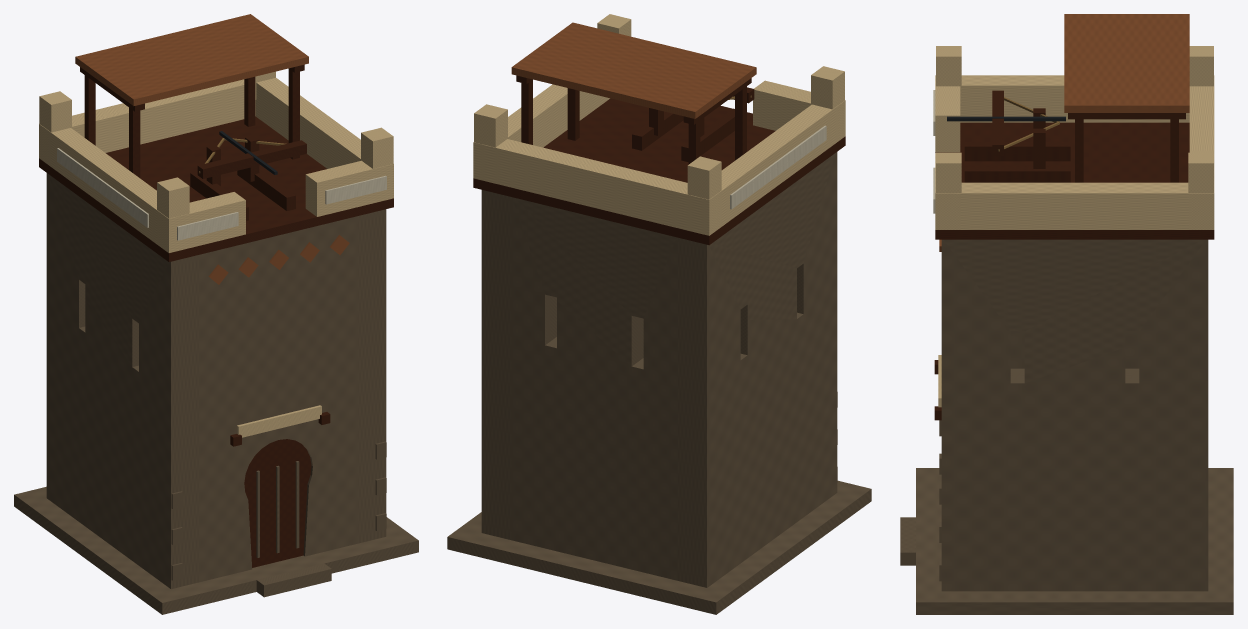
Rendered from Berber_Outpost_Age3_springald_stone.fbx.
The picture shows the model from 3 angles, left to right: view 1: azimuth 30°, elevation 25°; view 2: azimuth 150°, elevation 25°; view 3: azimuth 270°, elevation 25°; orthographic projection. The views are drawn at different scales.
Visible parts, largest first — view 1: fortified_stone_side, fortified_stone_face, lookout_floor, fitted_flat_canopy, tower_foundation, fortified_stone_side.001, lookout_parapet_back, horseshoe_door.001, lookout_parapet_side, lookout_parapet_side.001, lookout_parapet_front.001, lookout_parapet_front (+15 smaller); view 2: fortified_stone_face.001, fortified_stone_side, fitted_flat_canopy, tower_foundation, lookout_parapet_back, lookout_floor, fortified_stone_side.001, lookout_parapet_side, lookout_parapet_side.001, lookout_parapet_front, neutral_owner_side_band, corner_merlon.001 (+7 smaller); view 3: fortified_stone_side.001, tower_foundation, fitted_flat_canopy, lookout_floor, lookout_parapet_side.001, lookout_parapet_side, lookout_parapet_back, springald_stock_runner.001, springald_stock_runner, lookout_parapet_front, fortified_stone_side, corner_merlon (+11 smaller).
Boxes of the visible parts, x1,y1,x2,y2 form: fortified_stone_side: (46, 173, 198, 589); fortified_stone_face: (198, 216, 358, 582); lookout_floor: (39, 116, 393, 261); fitted_flat_canopy: (75, 14, 308, 105); tower_foundation: (14, 486, 418, 614); fortified_stone_side.001: (357, 209, 386, 543); lookout_parapet_back: (39, 79, 255, 165); horseshoe_door.001: (244, 439, 311, 567); lookout_parapet_side: (50, 128, 162, 244); lookout_parapet_side.001: (255, 78, 360, 168); lookout_parapet_front.001: (305, 160, 393, 216); lookout_parapet_front: (157, 192, 245, 252); fortified_stone_face.001: (510, 197, 677, 580); fortified_stone_side: (677, 152, 837, 587); fitted_flat_canopy: (511, 22, 756, 118); tower_foundation: (447, 480, 871, 614); lookout_parapet_back: (473, 139, 721, 235); lookout_floor: (473, 98, 845, 245); fortified_stone_side.001: (481, 190, 510, 539); lookout_parapet_side: (715, 104, 839, 226); lookout_parapet_side.001: (508, 84, 609, 147); lookout_parapet_front: (753, 80, 845, 139); neutral_owner_side_band: (730, 125, 826, 209); corner_merlon.001: (687, 156, 721, 199); fortified_stone_side.001: (941, 239, 1208, 591); tower_foundation: (916, 468, 1233, 614); fitted_flat_canopy: (1064, 14, 1189, 112); lookout_floor: (935, 122, 1214, 239); lookout_parapet_side.001: (948, 182, 1201, 229); lookout_parapet_side: (960, 75, 1189, 122); lookout_parapet_back: (1189, 75, 1214, 229); springald_stock_runner.001: (964, 166, 1070, 182); springald_stock_runner: (964, 142, 1070, 161); lookout_parapet_front: (935, 75, 960, 152); fortified_stone_side: (1010, 331, 1139, 368); corner_merlon: (936, 46, 961, 104).
Bounding box in the file's own units: 360 × 610 × 378.
7 materials, 7 textured.
